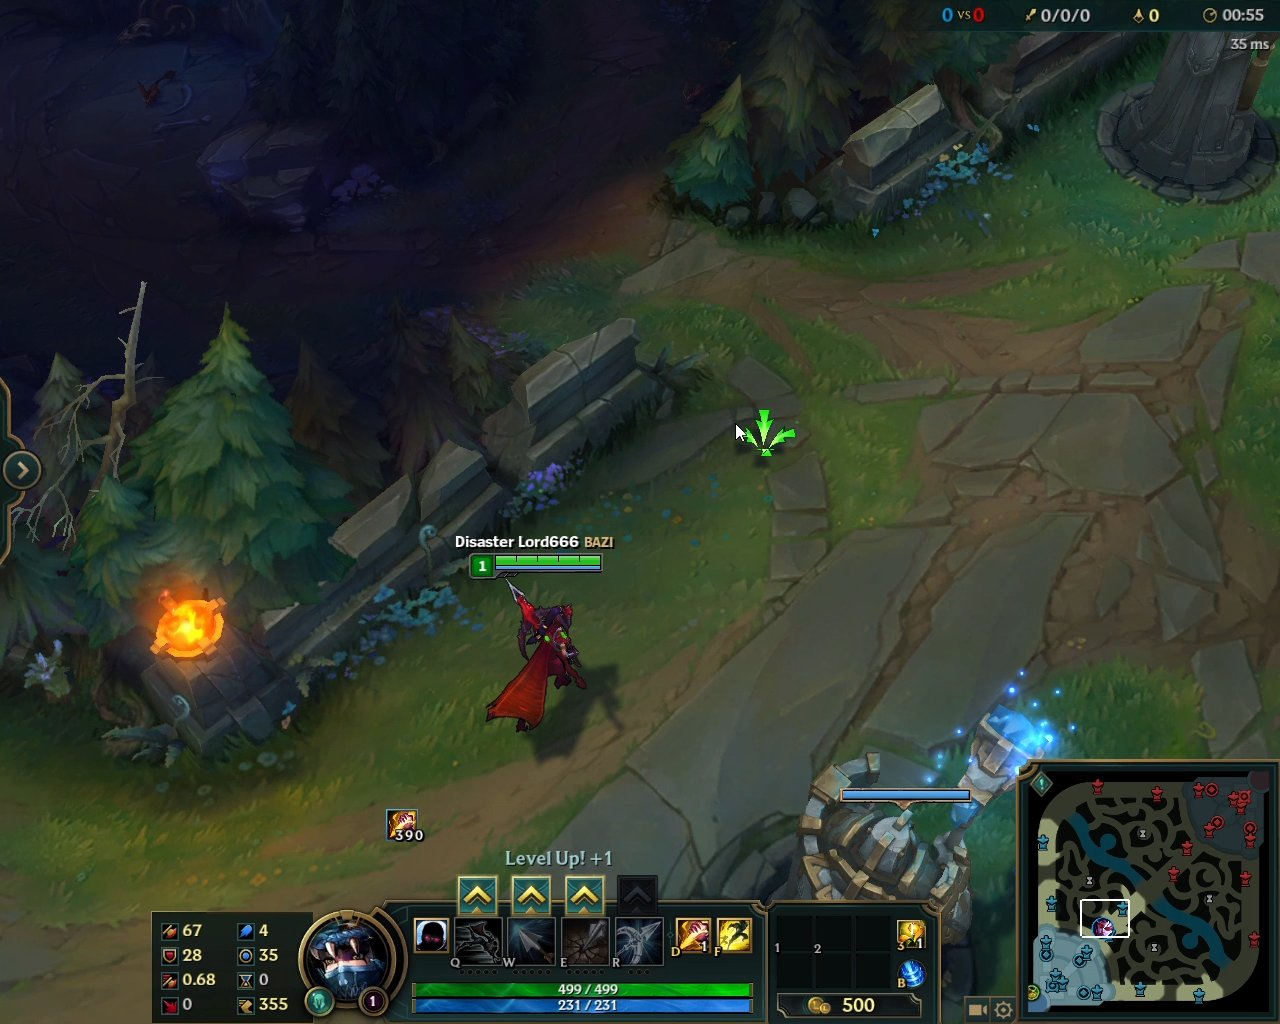Vayne: (472, 571, 600, 742)
